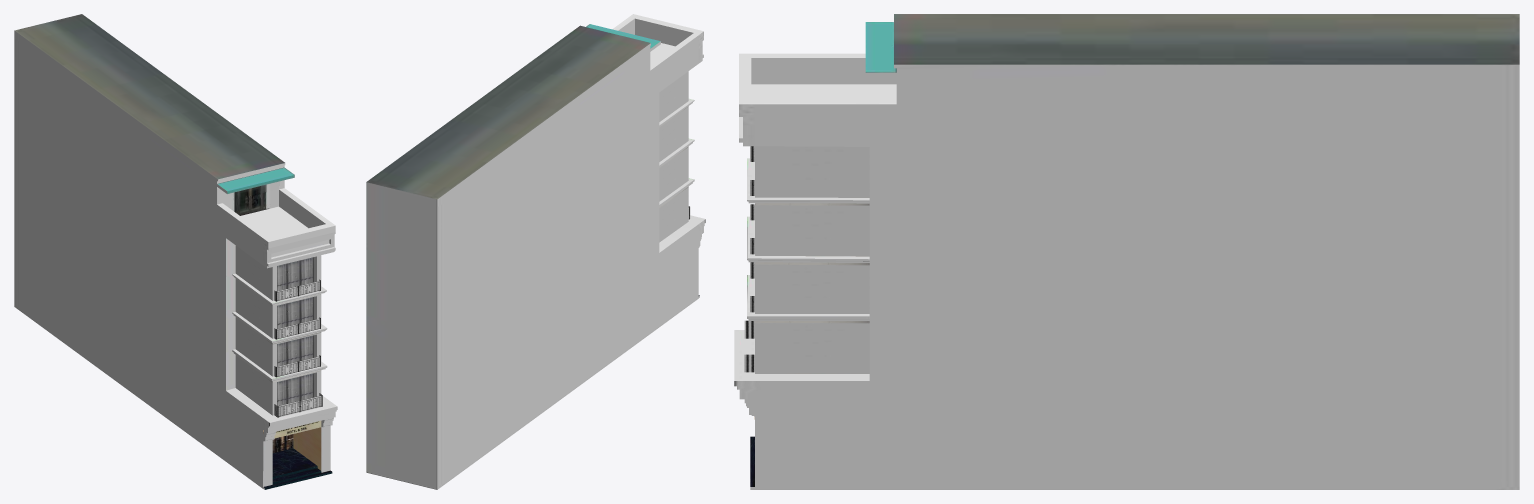
3 views of the same model, side by side, from view 1: azimuth 30°, elevation 25°; view 2: azimuth 150°, elevation 25°; view 3: azimuth 270°, elevation 25° (orthographic). The views are drawn at different scales.
Visible parts, largest first — view 1: HN107___Hanoi_Marvellous_Hotel___Spa_10012020_max; view 2: HN107___Hanoi_Marvellous_Hotel___Spa_10012020_max; view 3: HN107___Hanoi_Marvellous_Hotel___Spa_10012020_max.
Boxes of the visible parts, <box> form: HN107___Hanoi_Marvellous_Hotel___Spa_10012020_max: <box>14,14,337,489</box>; HN107___Hanoi_Marvellous_Hotel___Spa_10012020_max: <box>366,14,705,489</box>; HN107___Hanoi_Marvellous_Hotel___Spa_10012020_max: <box>734,14,1519,489</box>.
Bounding box in the file's own units: 6 × 23.43 × 39.23.
Materials: 1 (1 with a texture image).
